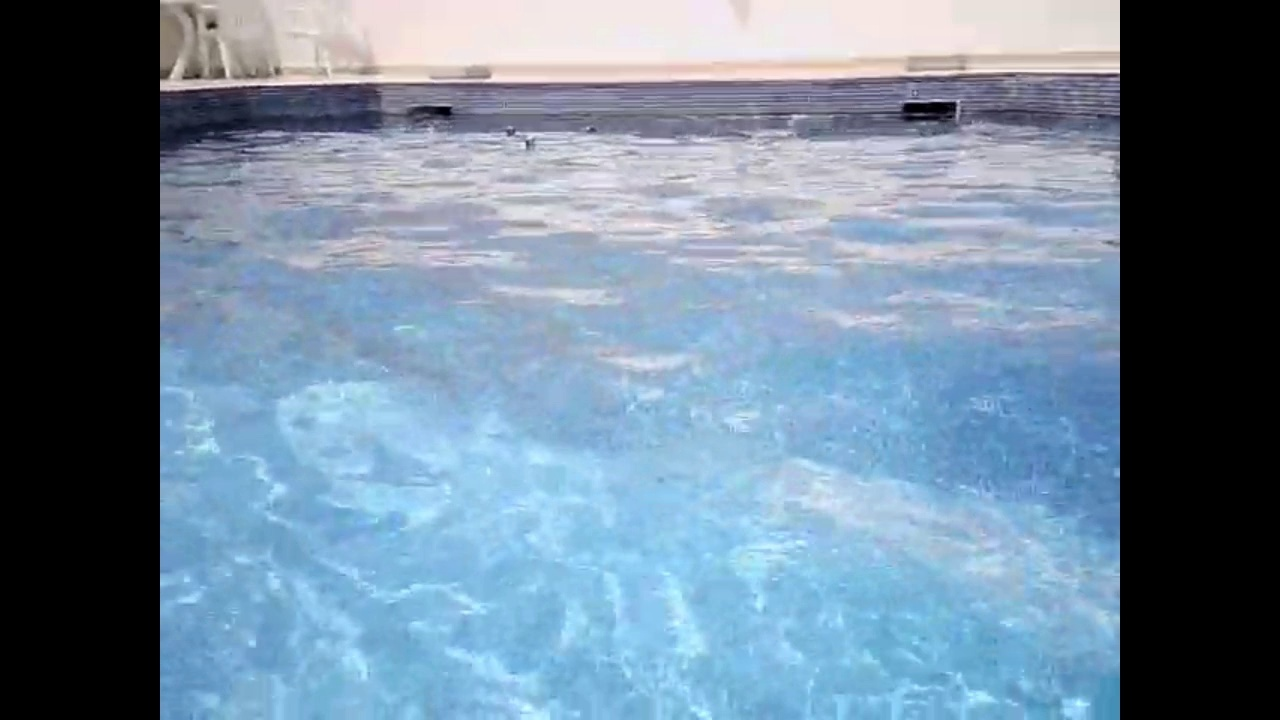debris: (786, 108, 812, 130), (502, 119, 521, 141), (520, 134, 537, 150), (581, 123, 599, 135)
